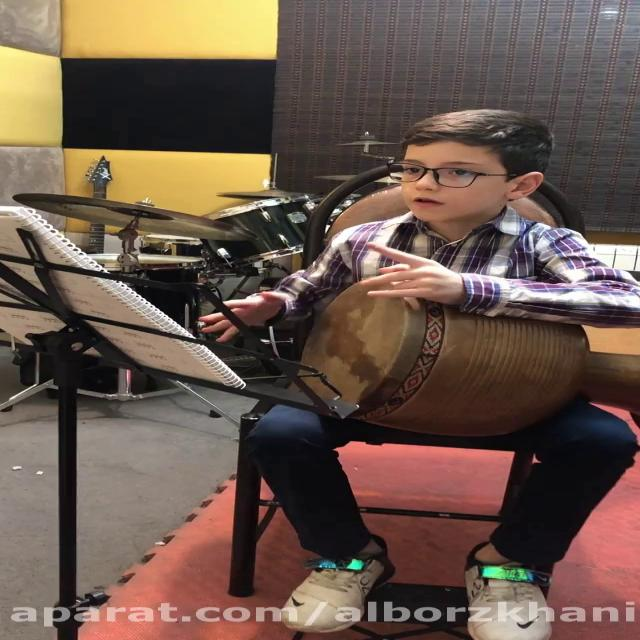Tombak: (293, 276, 640, 433)
